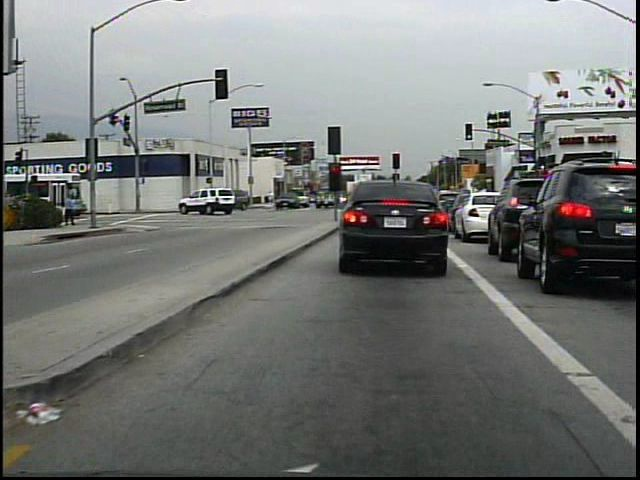person: (65, 192, 79, 228), (267, 187, 277, 209)
